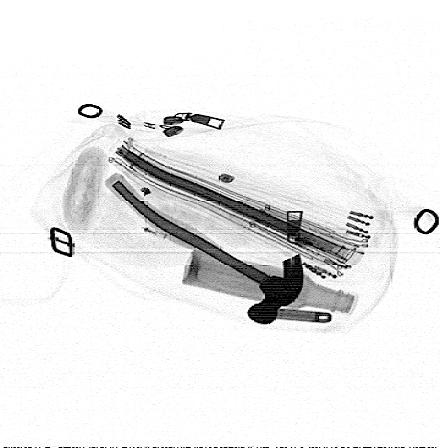Hammer: (104, 172, 306, 326)
